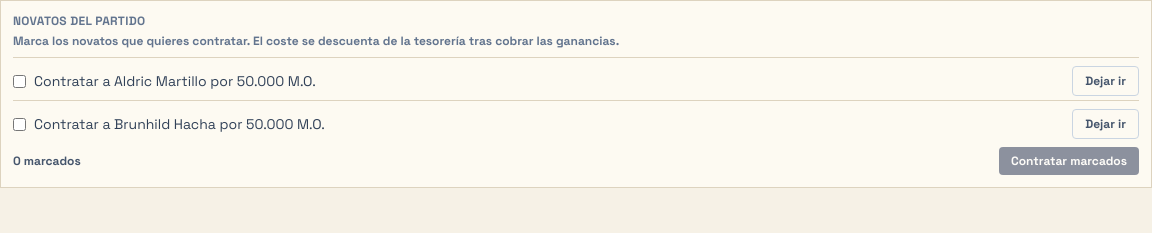
JourneymenHireStep › surfaces a rejection (e.g. 409 insufficient treasury) in the step and does NOT refresh
Click the checkbox labelled "Contratar a Aldric Martillo por 50.000 M.O." at (20, 81), box [13,74,26,88]
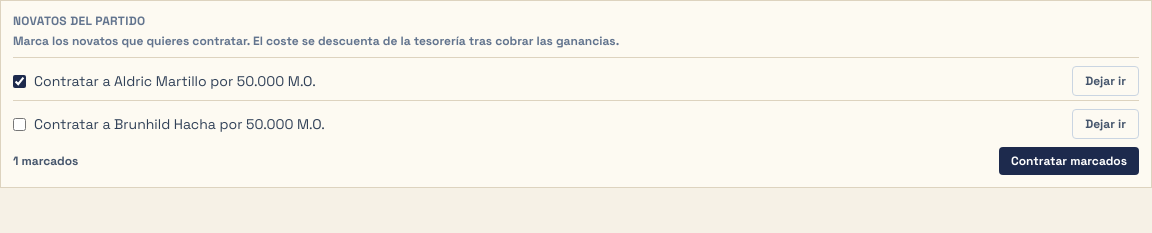
Click the button "Contratar marcados" at (1069, 161), box [999,147,1139,175]
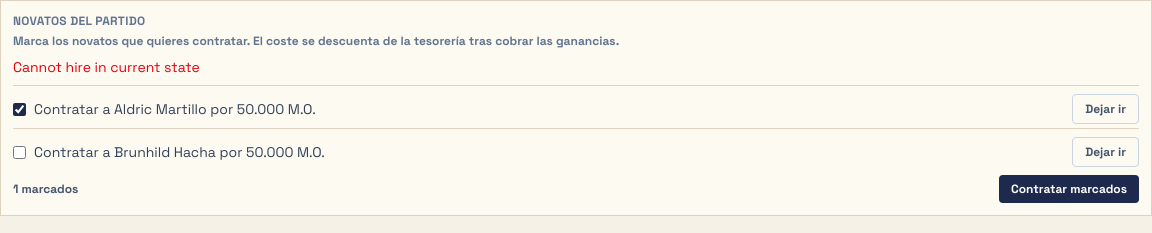
Now the message reads "Cannot hire in current state", box [13,58,200,76]
